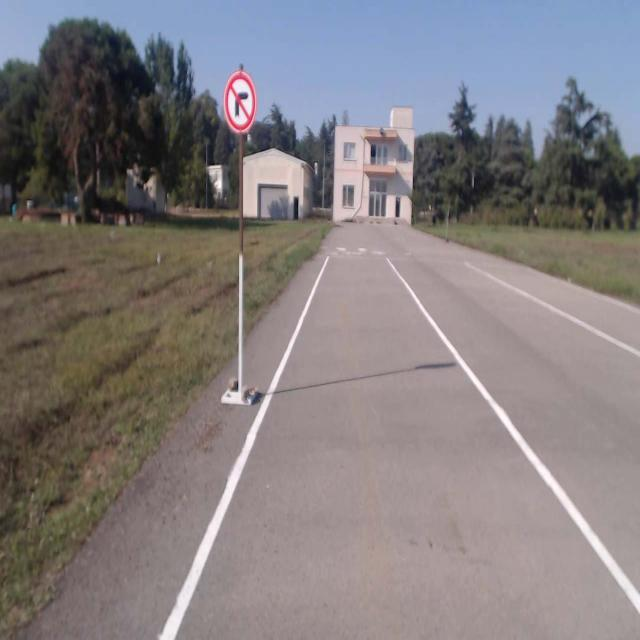sagadonulmez: (225, 75, 255, 129)
